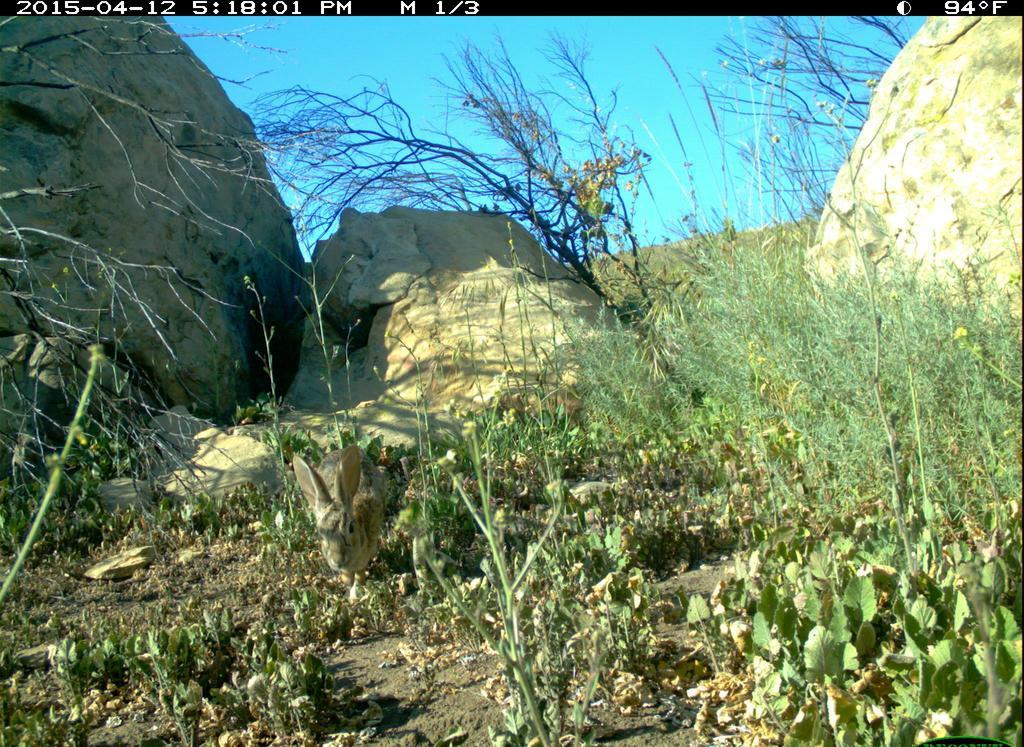rabbit: (286, 440, 396, 609)
